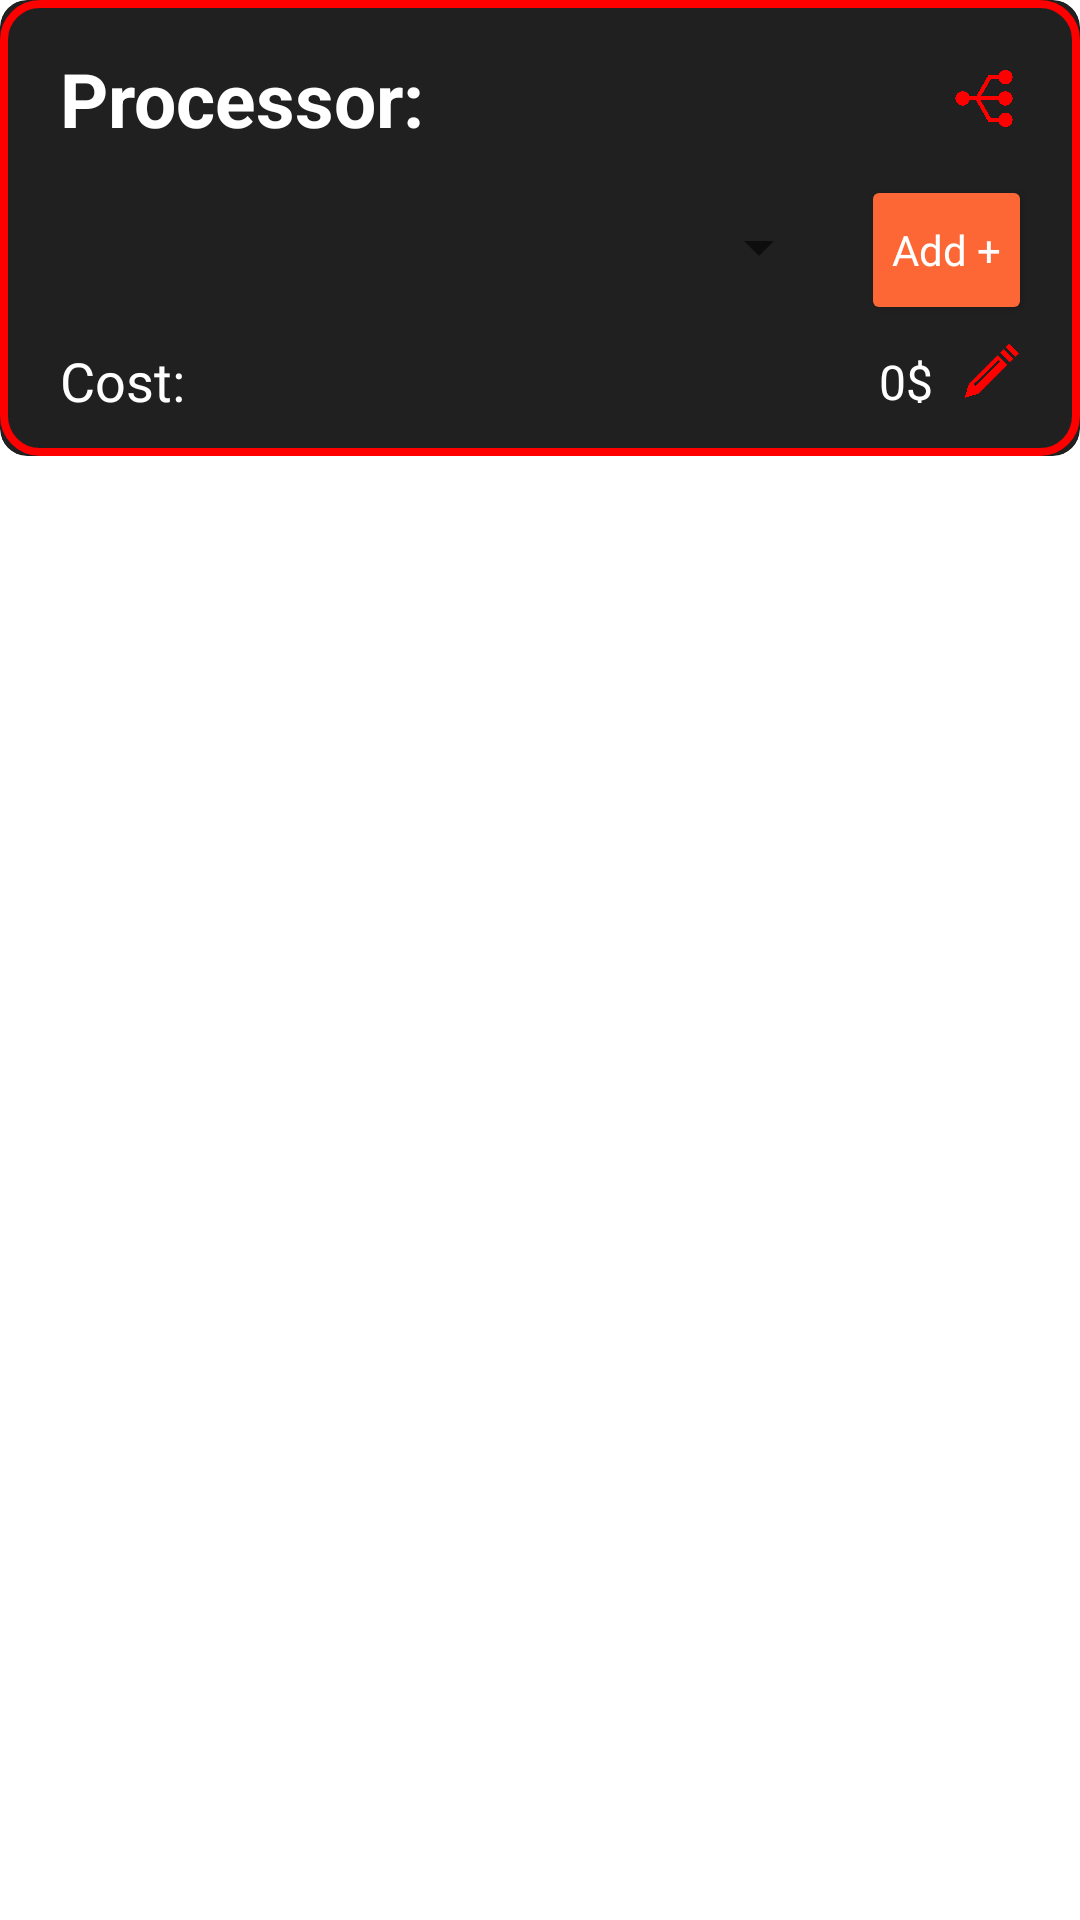

Named icons in this screenshot (1080*1920) and their bounding boxes, bbox=(x1, y1, x2, y2):
edit: bbox=(965, 344, 1019, 398)
